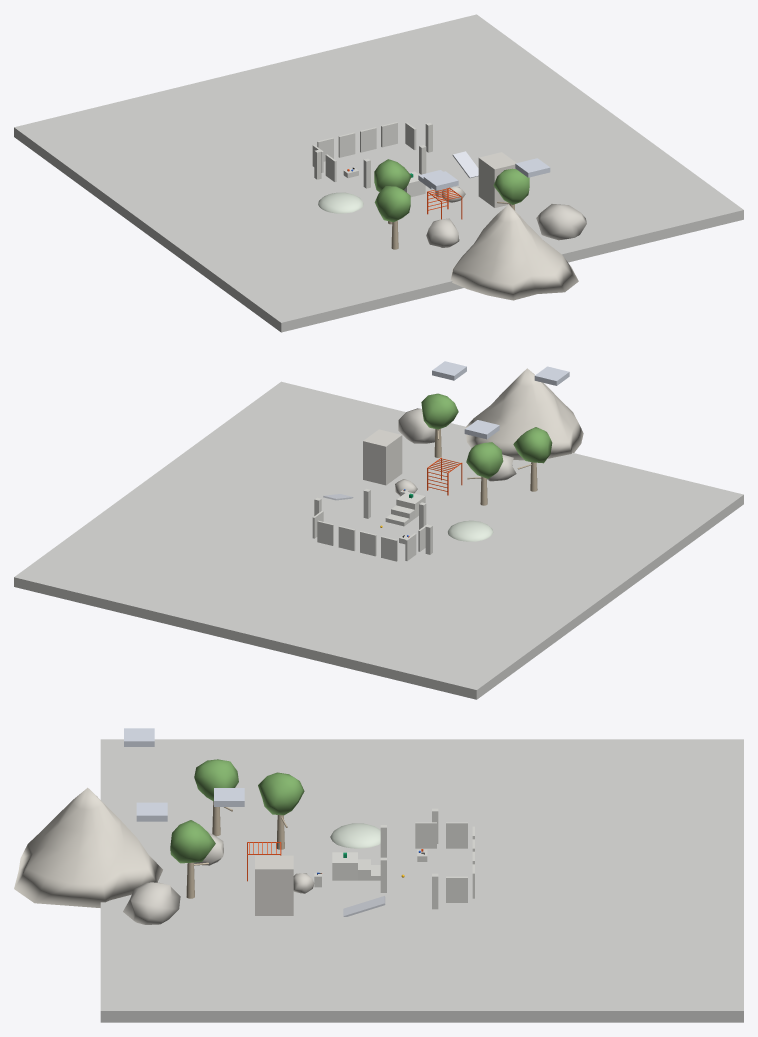
File: room.glb
3 views of the same model, one above another, from view 1: azimuth 30°, elevation 25°; view 2: azimuth 150°, elevation 25°; view 3: azimuth 270°, elevation 25° (orthographic). The views are drawn at different scales.
Visible parts, largest first — view 1: ColBox_Floor, Col_Mount, Col_Boulder_3, ColBox_ClimbTower, Canopy_2, Canopy_3, Canopy_1, Col_Hill, Col_Boulder_2; view 2: ColBox_Floor, Col_Mount, ColBox_ClimbTower, Canopy_2, Canopy_3, Canopy_1, Col_Boulder_3, Col_Hill; view 3: ColBox_Floor, Col_Mount, ColBox_ClimbTower, Col_Boulder_3, Canopy_1, Canopy_3, Canopy_2, Col_Hill, ColBox_Platform, ColBox_FloatingPlatform_2, ColBox_CardStand_4, ColBox_CardStand_5 (+3 smaller).
Boxes of the visible parts, box(x1,y1,x2,y2) form: ColBox_Floor: box(14, 14, 743, 332); Col_Mount: box(450, 204, 578, 300); Col_Boulder_3: box(536, 204, 586, 240); ColBox_ClimbTower: box(478, 152, 516, 207); Canopy_2: box(374, 186, 410, 222); Canopy_3: box(493, 168, 529, 204); Canopy_1: box(374, 159, 411, 192); Col_Hill: box(318, 192, 363, 213); Col_Boulder_2: box(426, 218, 459, 247); ColBox_Floor: box(14, 381, 743, 699); Col_Mount: box(464, 368, 583, 460); ColBox_ClimbTower: box(363, 429, 402, 485); Canopy_2: box(513, 427, 552, 463); Canopy_3: box(421, 393, 458, 429); Canopy_1: box(466, 442, 503, 478); Col_Boulder_3: box(398, 408, 435, 443); Col_Hill: box(448, 520, 493, 541); ColBox_Floor: box(100, 739, 743, 1022); Col_Mount: box(14, 787, 162, 907); ColBox_ClimbTower: box(255, 855, 293, 915); Col_Boulder_3: box(123, 882, 180, 924); Canopy_1: box(258, 772, 304, 815); Canopy_3: box(170, 820, 215, 863); Canopy_2: box(194, 759, 238, 801); Col_Hill: box(330, 823, 380, 848); ColBox_Platform: box(332, 852, 357, 880); ColBox_FloatingPlatform_2: box(136, 802, 167, 821); ColBox_CardStand_4: box(446, 822, 467, 848); ColBox_CardStand_5: box(446, 876, 467, 902).
Size of the model in its own units: 50 by 10.26 by 56.74.
